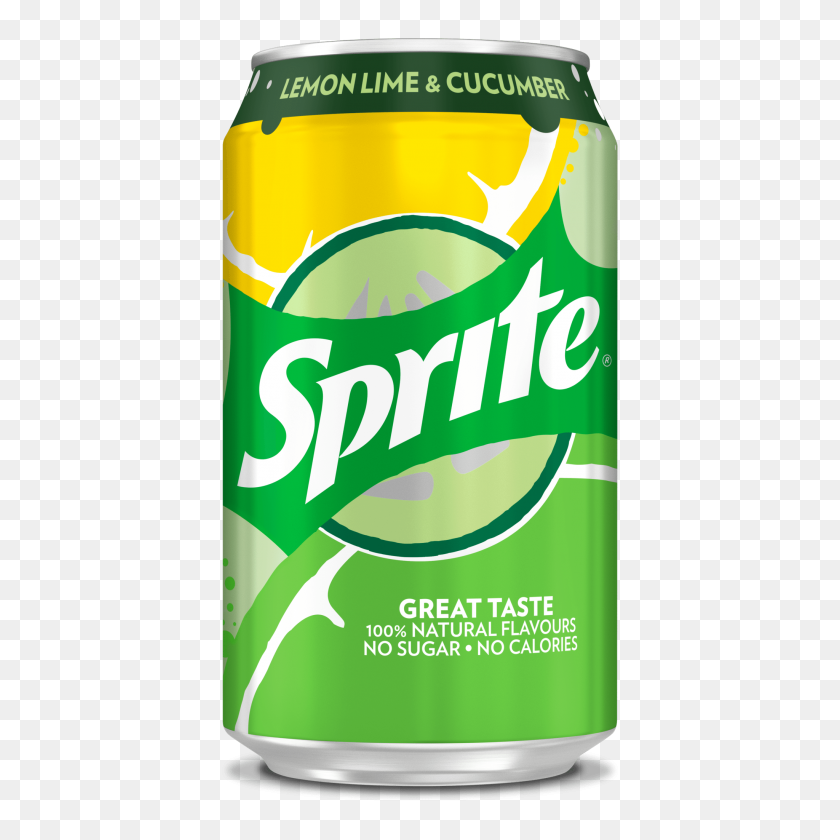sprite_can: (218, 39, 622, 790)
